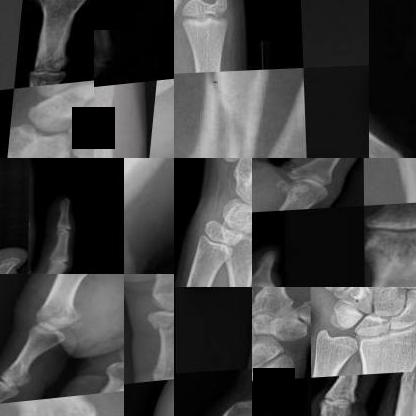fracture: (187, 71, 270, 157), (384, 158, 415, 201), (146, 307, 173, 351), (160, 82, 173, 117), (81, 274, 121, 285)
